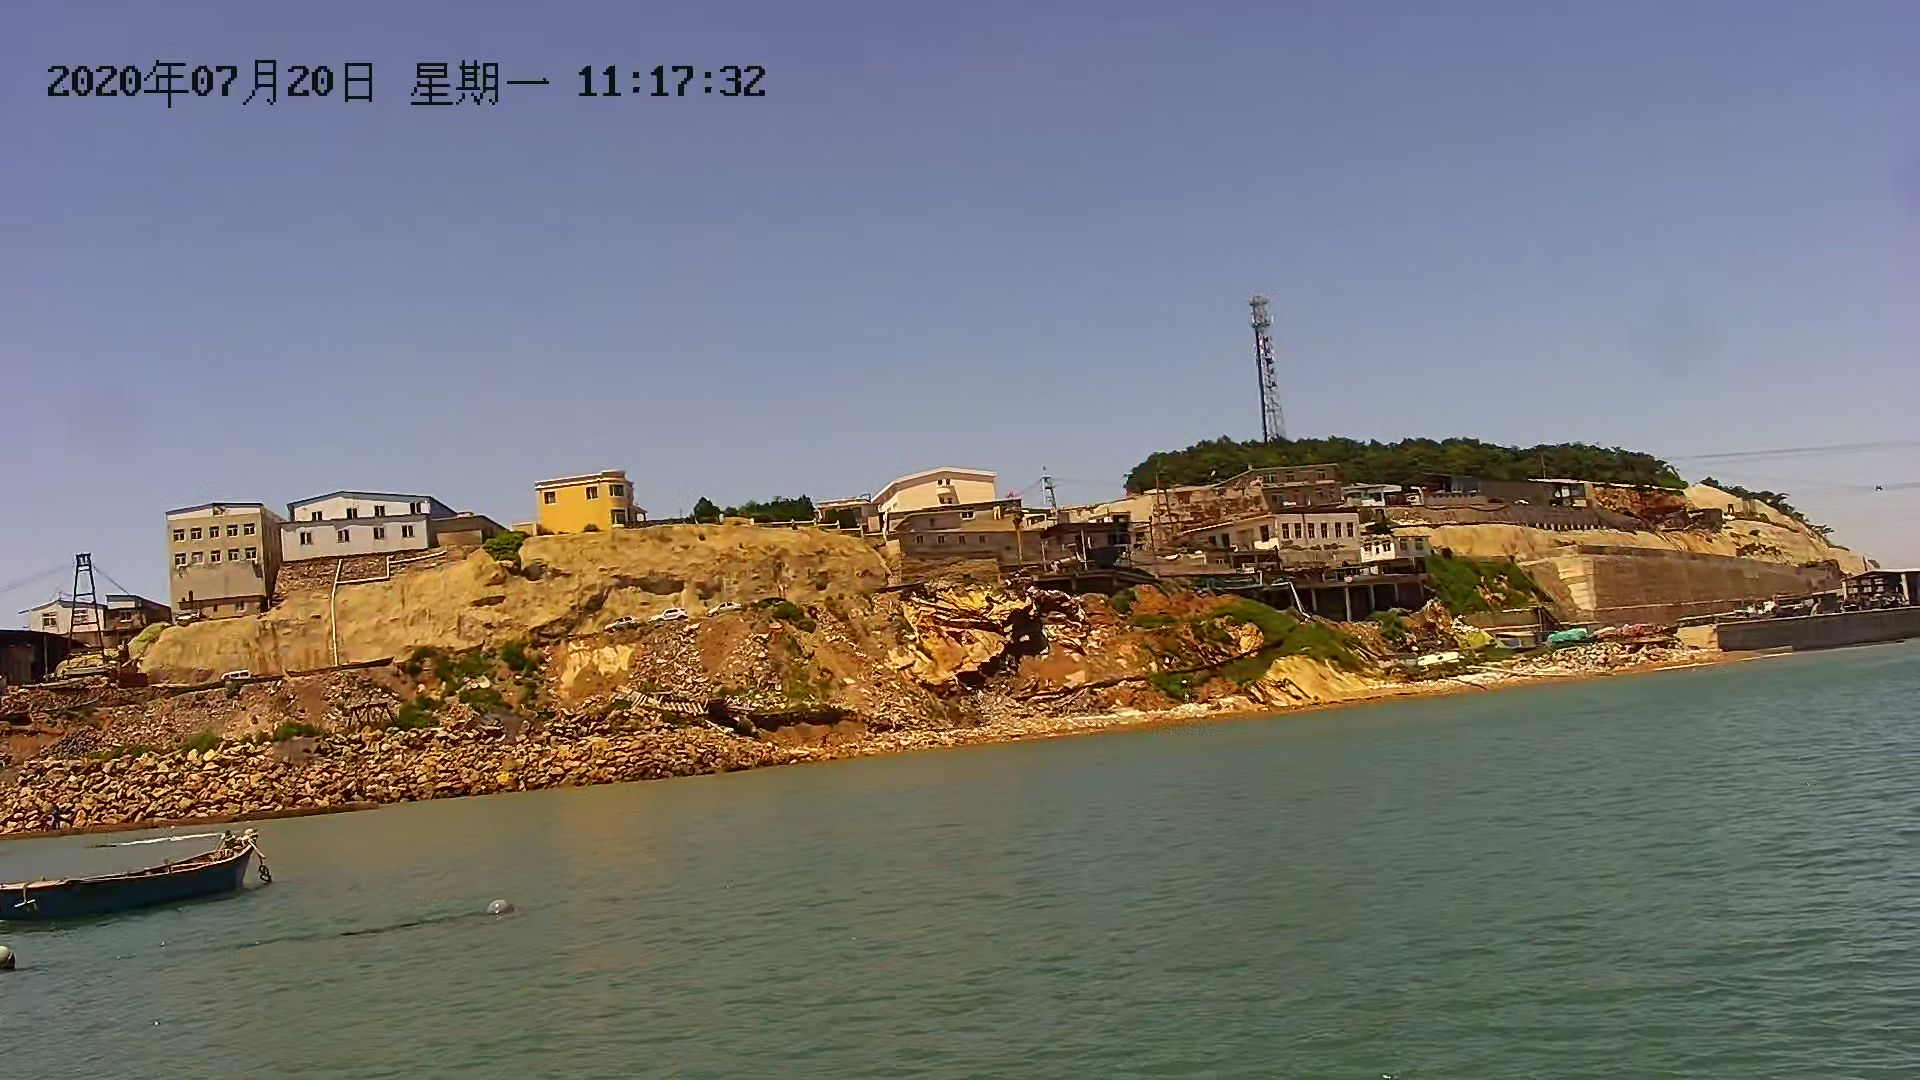ball: (480, 895, 517, 919)
boat: (1, 820, 262, 935)
